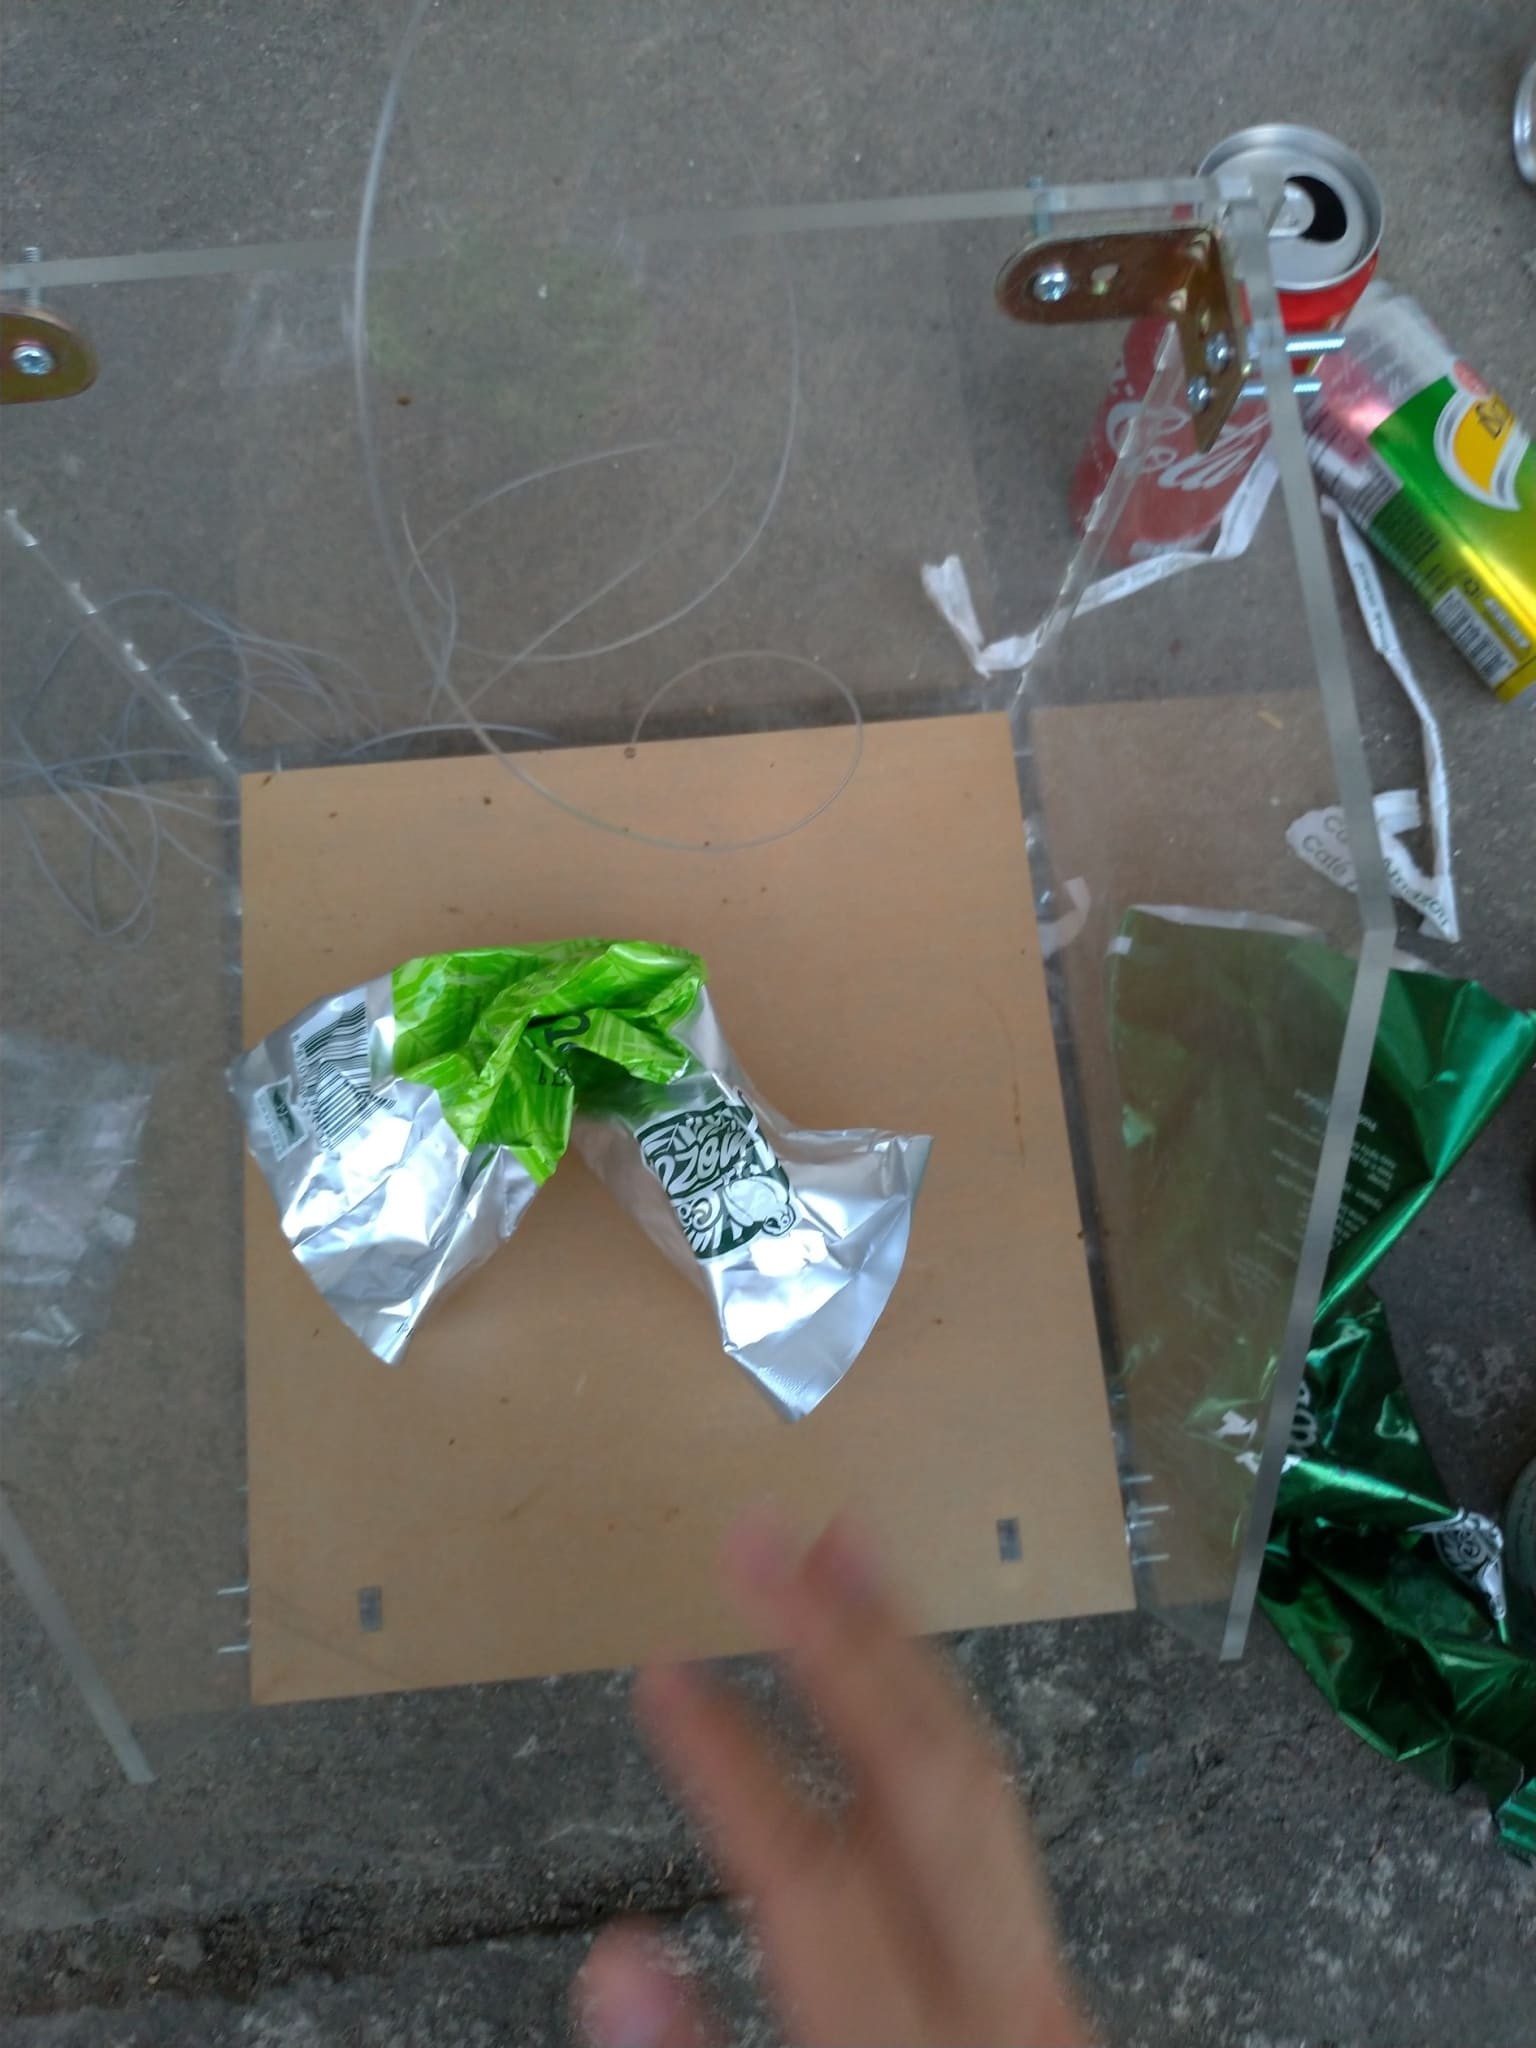AlCan: (1070, 132, 1383, 561), (1317, 295, 1536, 693)
Others: (1091, 892, 1525, 1842), (229, 939, 944, 1417)
